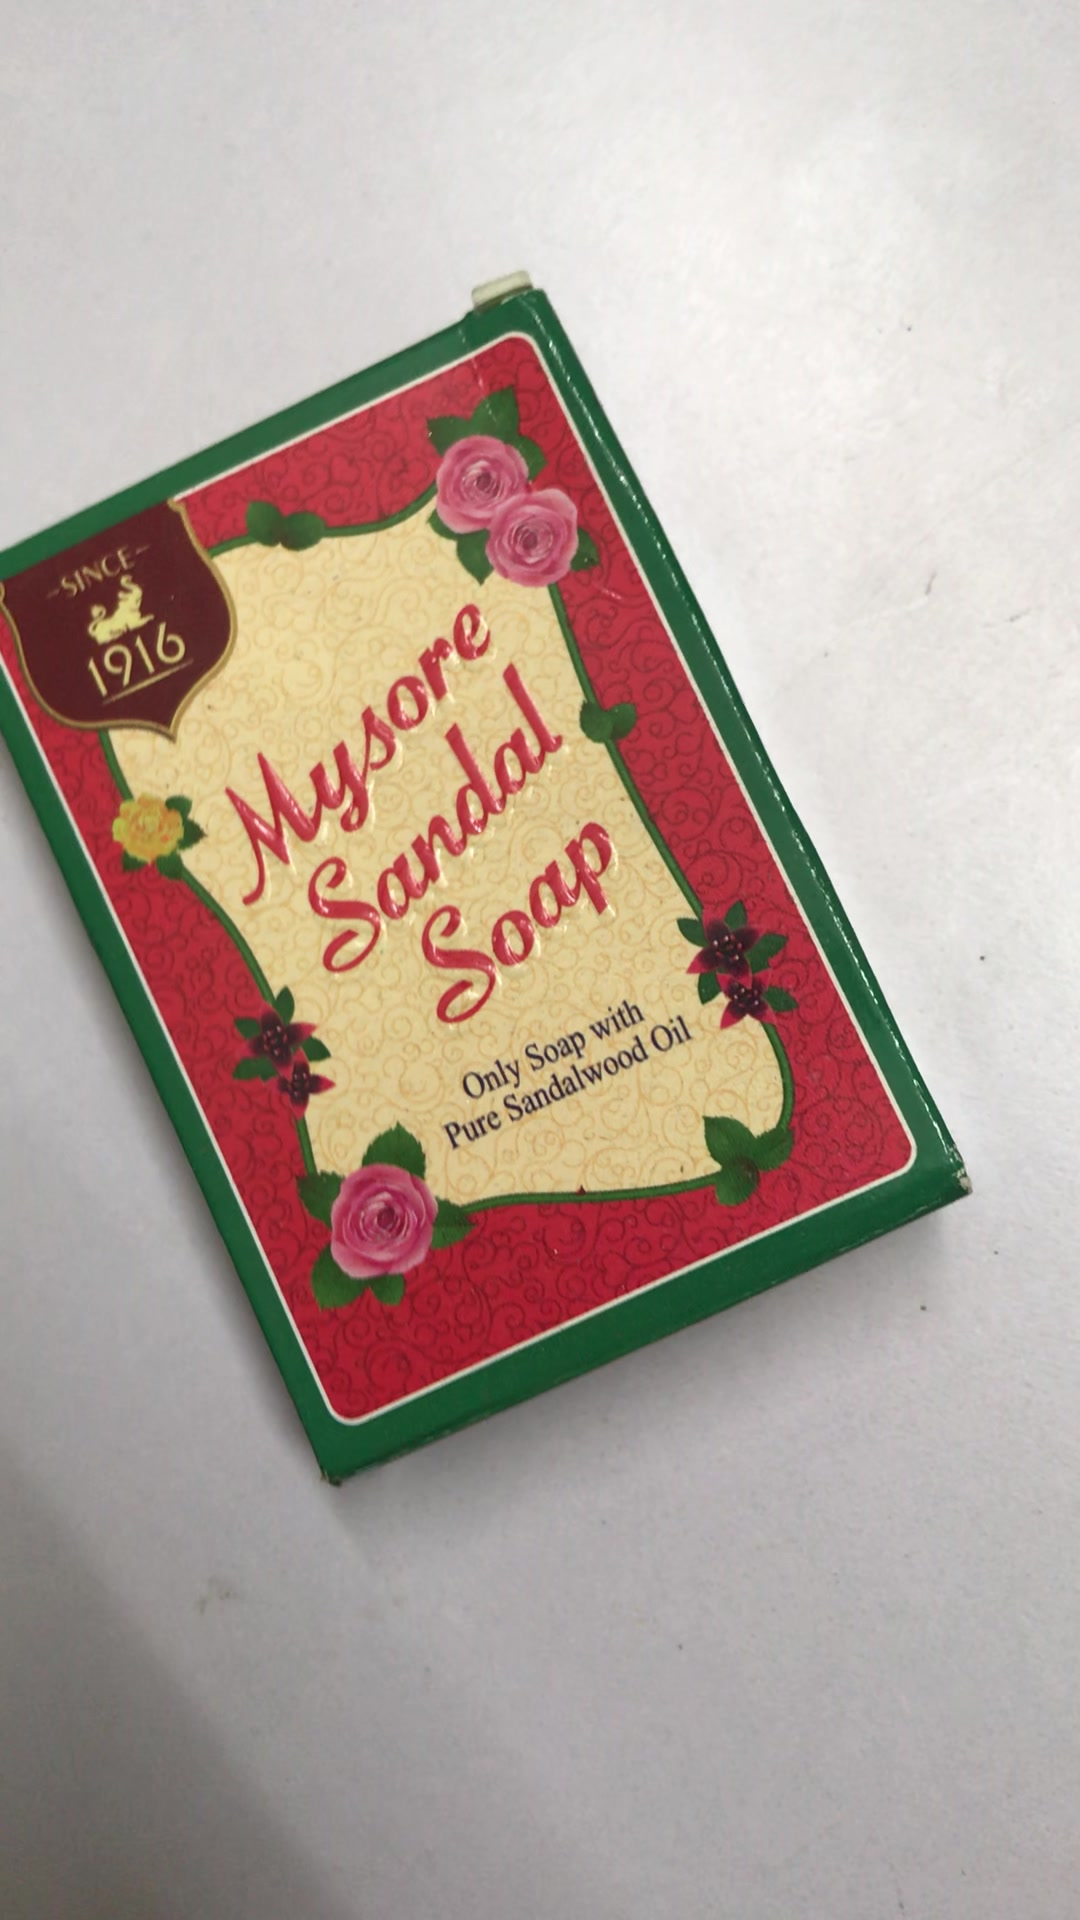mysore sandal soap: (11, 290, 965, 1480)
